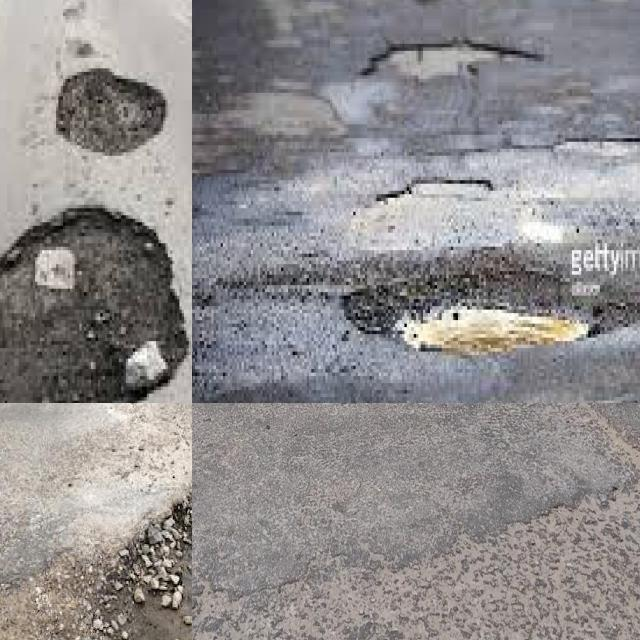Pothole: (0, 205, 191, 403), (0, 483, 192, 640), (339, 275, 640, 355), (58, 68, 165, 159), (365, 40, 539, 82), (379, 177, 493, 201), (556, 135, 640, 152)
